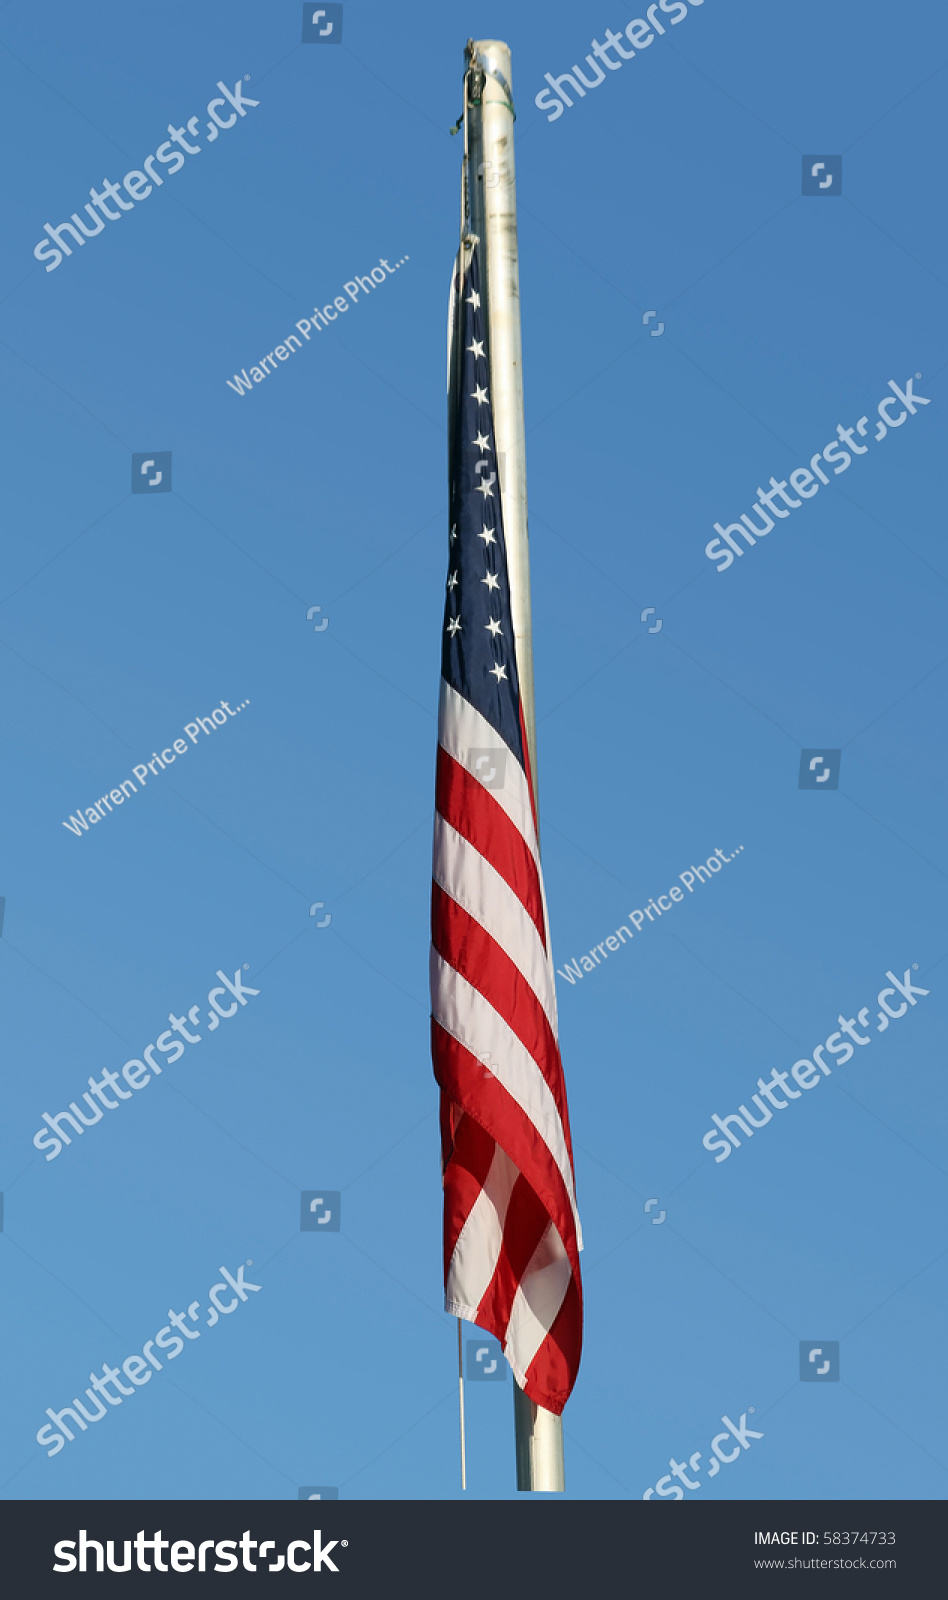Flag: (425, 91, 592, 1415)
